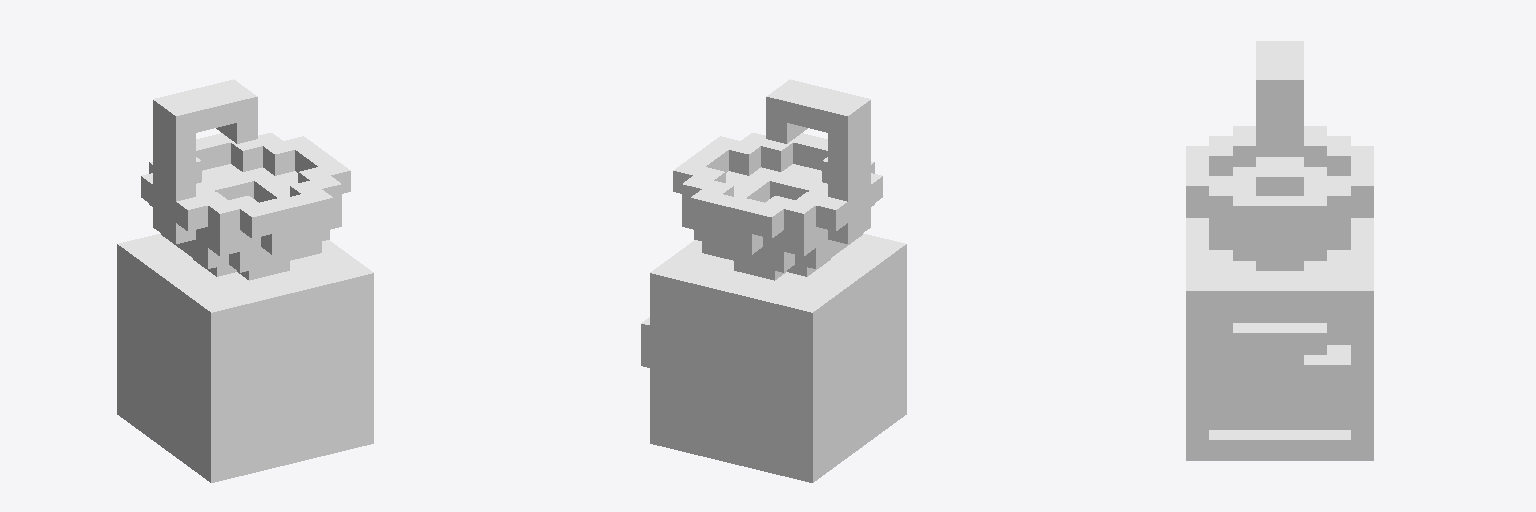
Rendered from Bathroom_Sink.obj.
The picture shows the model from 3 angles: view 1: azimuth 30°, elevation 25°; view 2: azimuth 150°, elevation 25°; view 3: azimuth 270°, elevation 25°; orthographic projection.
Visible parts, largest first — view 1: Bathroom_Sink; view 2: Bathroom_Sink; view 3: Bathroom_Sink.
Boxes of the visible parts, <box> form: Bathroom_Sink: <box>117,79,373,482</box>; Bathroom_Sink: <box>641,79,906,482</box>; Bathroom_Sink: <box>1186,41,1373,460</box>.
Bounding box in the file's own units: 9 × 16 × 8.